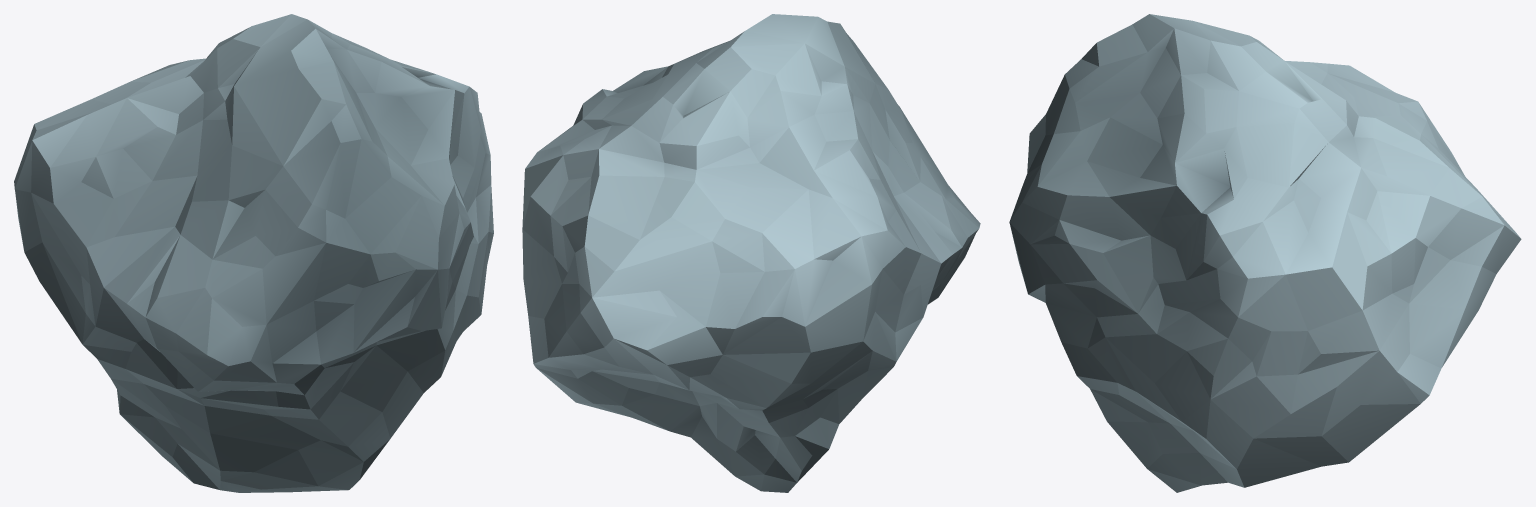
The model's file is geology-crystals-snowparticle_v6.glb.
3 renders of one model, left to right at view 1: azimuth 30°, elevation 25°; view 2: azimuth 150°, elevation 25°; view 3: azimuth 270°, elevation 25°, orthographic. The views are drawn at different scales.
Parts seen in each view (by area): view 1: snowparticle_v6; view 2: snowparticle_v6; view 3: snowparticle_v6.
Part boxes in pixels (left/top/right/bottom): snowparticle_v6: left=14, top=14, right=493, bottom=492; snowparticle_v6: left=522, top=14, right=980, bottom=492; snowparticle_v6: left=1009, top=14, right=1521, bottom=492.
Size of the model in its own units: 6.44 by 7.17 by 7.24.
